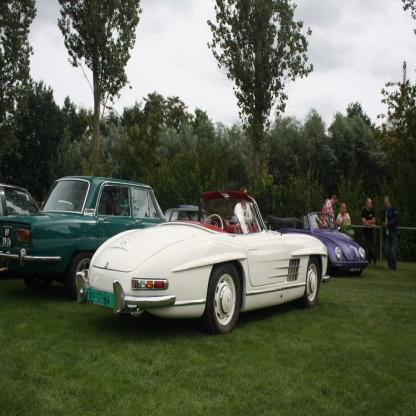Car: (76, 189, 327, 338), (1, 177, 167, 301), (268, 211, 370, 277), (1, 183, 40, 282), (1, 187, 44, 219), (164, 205, 211, 225), (43, 201, 75, 212)
